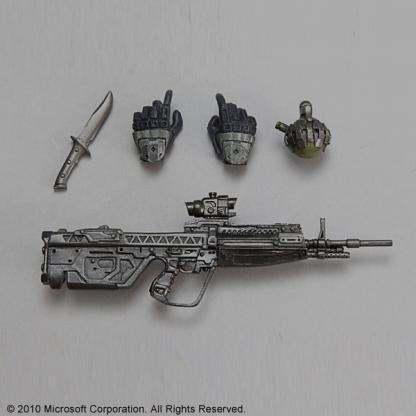Grenade: (274, 98, 331, 159)
Gun: (39, 190, 393, 310)
Knife: (52, 90, 115, 193)
